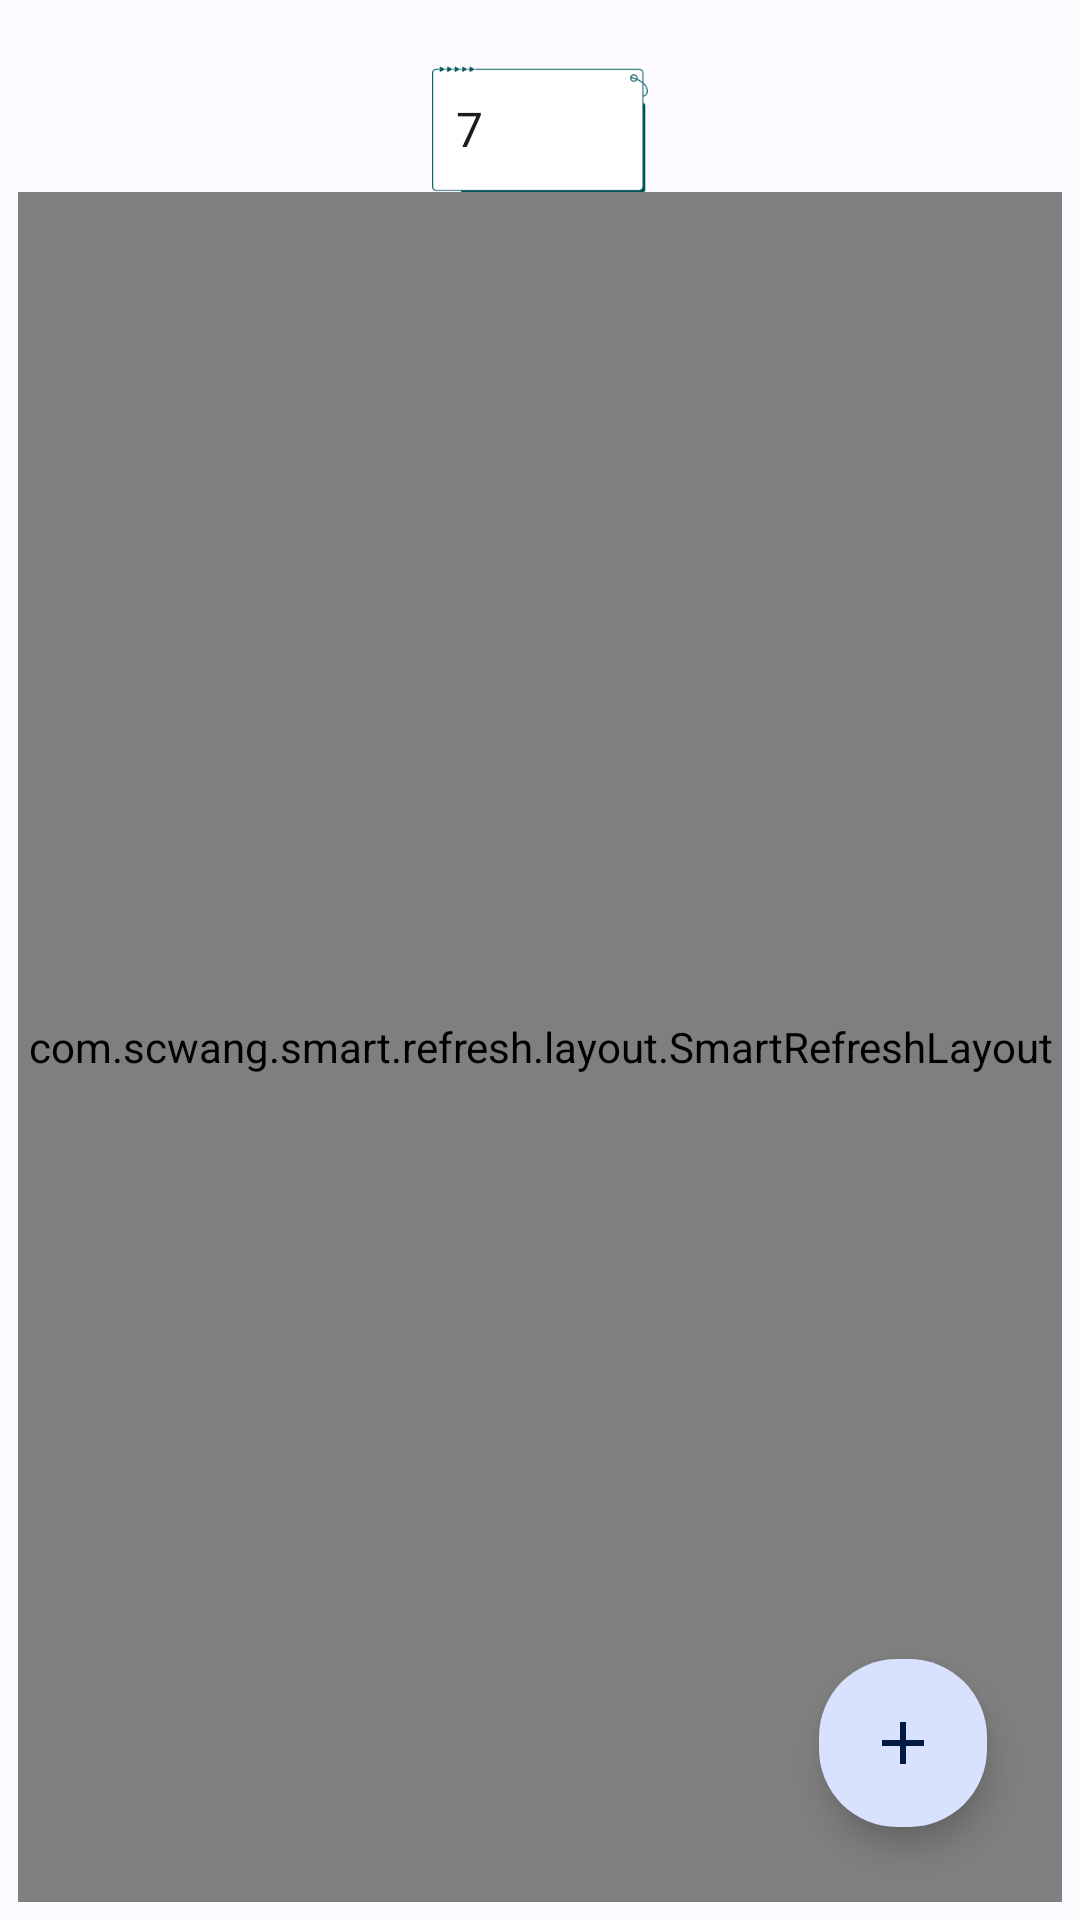

Icons on this 1080×1920 Android screen, each with its box as box=[x1, y1, x2, y2]:
add: box=[819, 1659, 987, 1827]
